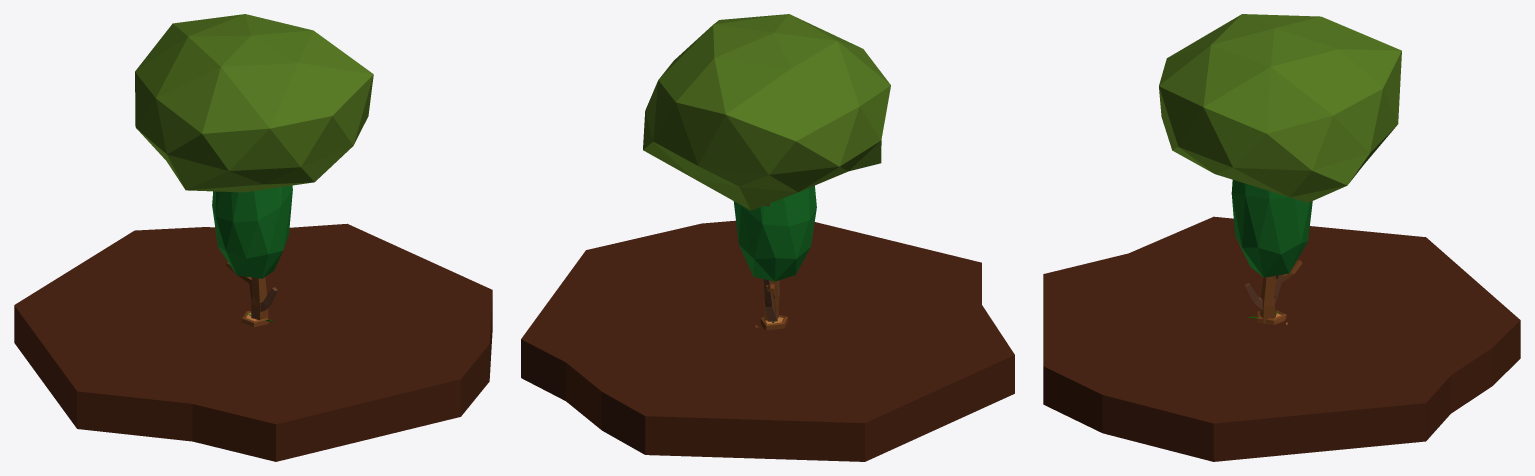
The model's file is terrain.fbx.
3 renders of one model, left to right at view 1: azimuth 30°, elevation 25°; view 2: azimuth 150°, elevation 25°; view 3: azimuth 270°, elevation 25°, orthographic. The views are drawn at different scales.
Visible parts, largest first — view 1: ground02, Trees_03_2, Trees_04_3; view 2: ground02, Trees_03_2, Trees_04_3; view 3: ground02, Trees_03_2, Trees_04_3.
Boxes of the visible parts, x1,y1,x2,y2 form: ground02: (14, 223, 492, 461); Trees_03_2: (135, 14, 373, 319); Trees_04_3: (212, 185, 292, 318); ground02: (521, 220, 1014, 461); Trees_03_2: (643, 14, 890, 321); Trees_04_3: (733, 185, 816, 321); ground02: (1043, 216, 1520, 461); Trees_03_2: (1159, 14, 1401, 323); Trees_04_3: (1231, 180, 1312, 317).
Bounding box in the file's own units: 3048 × 2972 × 2255.
